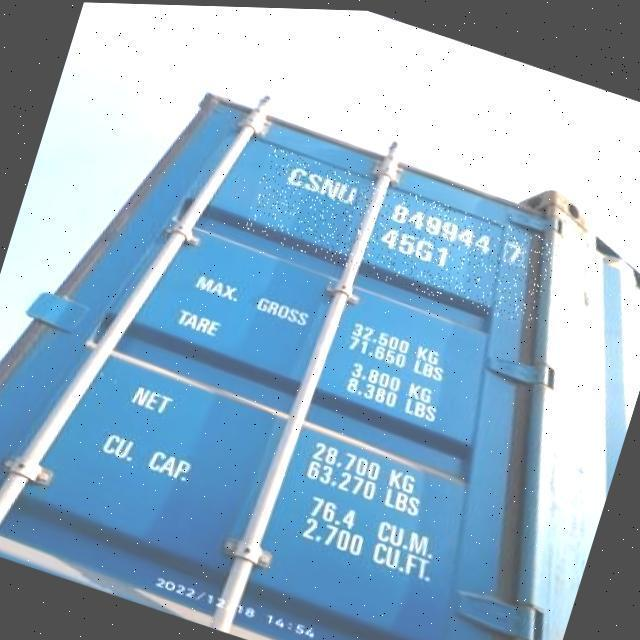container_number_h: (243, 142, 561, 327)
